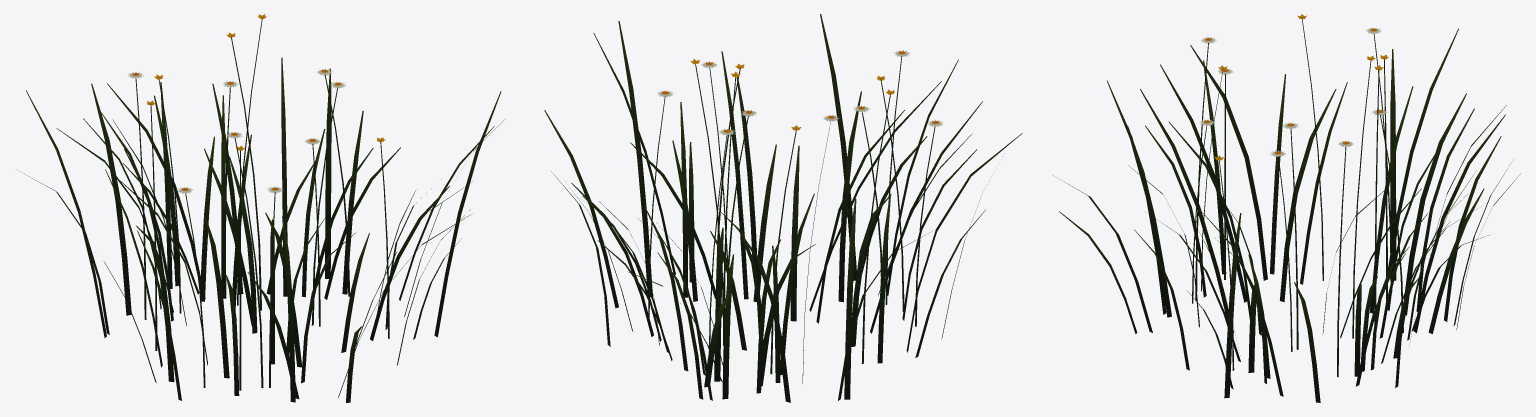
The model's file is SM_Flowers_A.fbx.
3 views of the same model, side by side, from view 1: azimuth 30°, elevation 25°; view 2: azimuth 150°, elevation 25°; view 3: azimuth 270°, elevation 25° (orthographic). The views are drawn at different scales.
Visible parts, largest first — view 1: SM_Flowers_A; view 2: SM_Flowers_A; view 3: SM_Flowers_A.
Part boxes in pixels (x1=…): SM_Flowers_A: x1=16, y1=14, x2=504, y2=402; SM_Flowers_A: x1=544, y1=14, x2=1022, y2=402; SM_Flowers_A: x1=1053, y1=14, x2=1520, y2=402.
Size of the model in its own units: 72.22 by 69.36 by 46.19.
